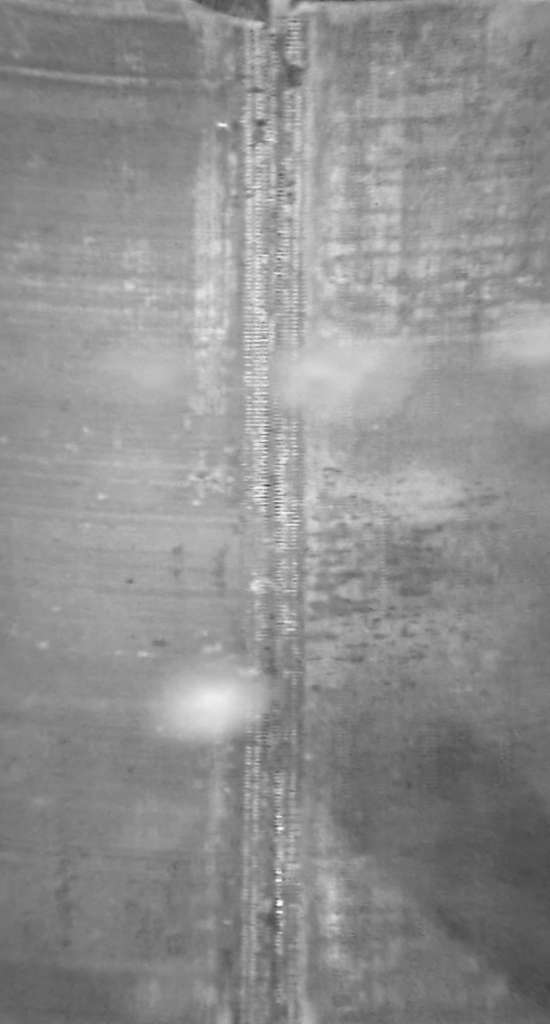splice: (238, 1, 318, 1024)
